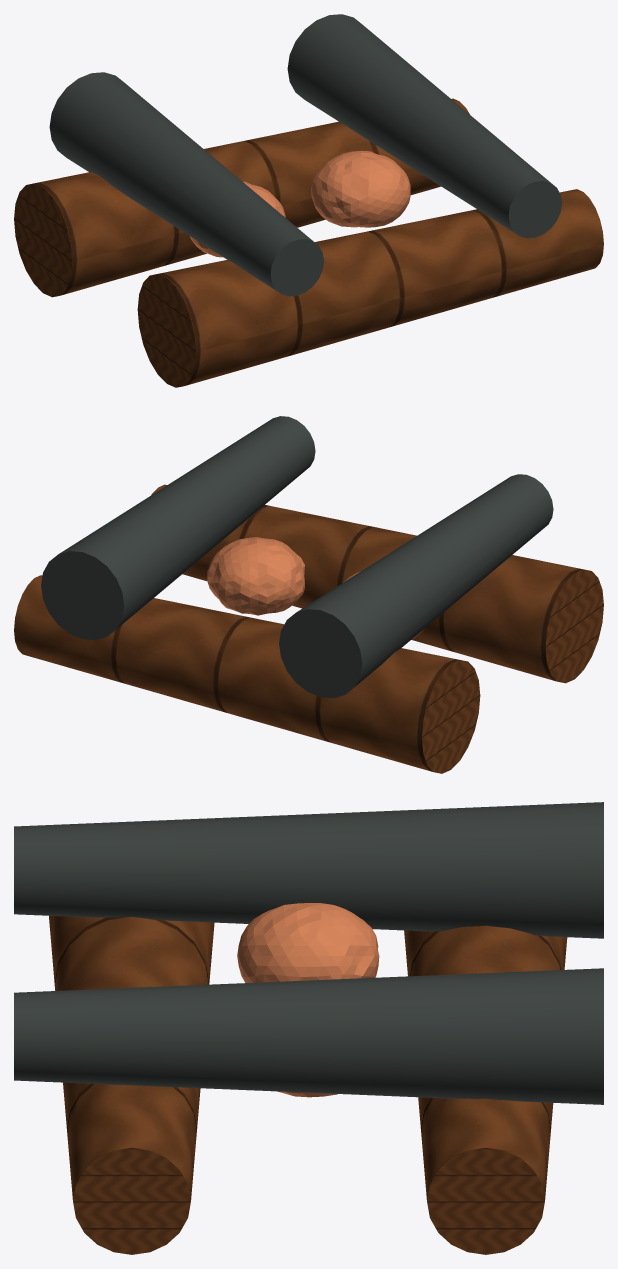
File: wilderness-survival-camp-split-log-fire-1286ca40__21950.glb
3 views of the same model, one above another, from view 1: azimuth 30°, elevation 25°; view 2: azimuth 150°, elevation 25°; view 3: azimuth 270°, elevation 25° (orthographic). The views are drawn at different scales.
Visible parts, largest first — view 1: split-log-fire; view 2: split-log-fire; view 3: split-log-fire.
Boxes of the visible parts, left/top/right/bottom form: split-log-fire: left=14, top=14, right=603, bottom=387; split-log-fire: left=14, top=416, right=603, bottom=773; split-log-fire: left=14, top=802, right=603, bottom=1254.
Bounding box in the file's own units: 0.7 × 0.27 × 0.6.
Materials: 3 (1 with a texture image).
